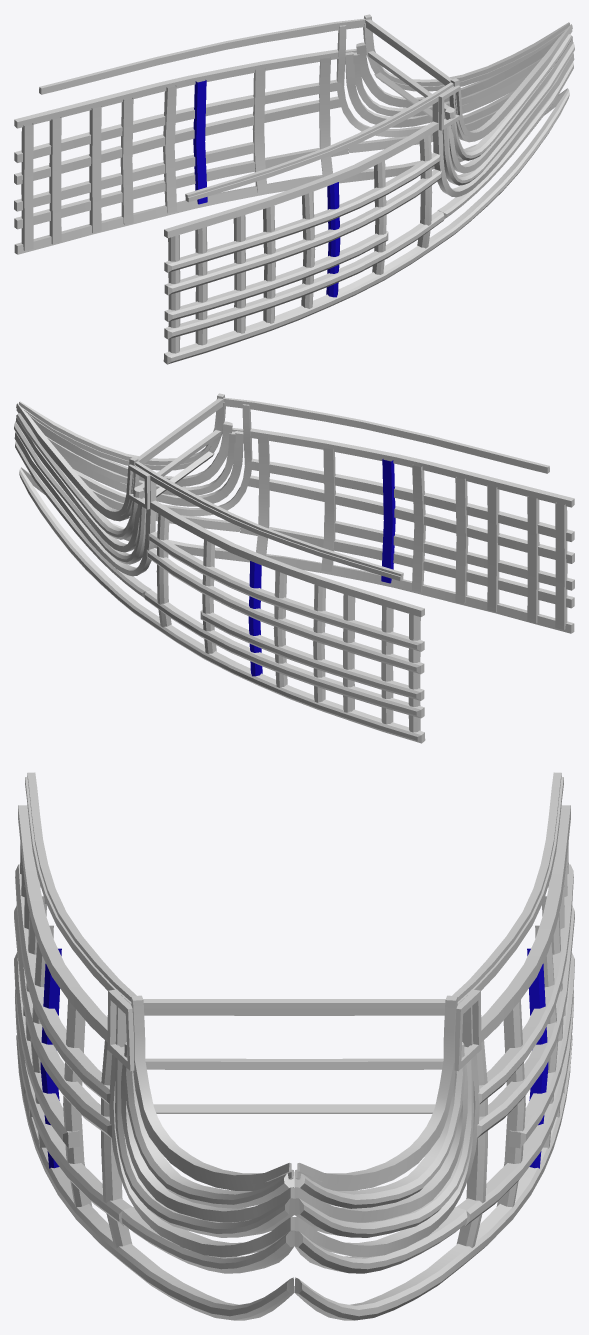
The model's file is kadlub_front_lvl_04.fbx.
3 views of the same model, one above another, from view 1: azimuth 30°, elevation 25°; view 2: azimuth 150°, elevation 25°; view 3: azimuth 270°, elevation 25° (orthographic). The views are drawn at different scales.
Visible parts, largest first — view 1: kadlub_front_lvl_04; view 2: kadlub_front_lvl_04; view 3: kadlub_front_lvl_04.
Boxes of the visible parts, left/top/right/bottom form: kadlub_front_lvl_04: left=14, top=14, right=574, bottom=364; kadlub_front_lvl_04: left=14, top=393, right=574, bottom=743; kadlub_front_lvl_04: left=14, top=772, right=574, bottom=1320.
Size of the model in its own units: 2756 by 997 by 1542.
